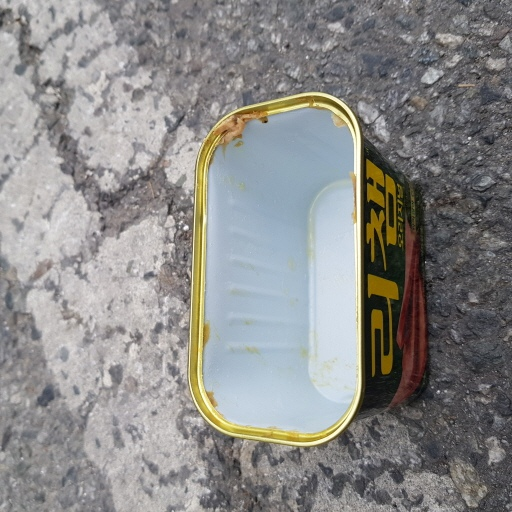Metal_2: (185, 95, 430, 451)
